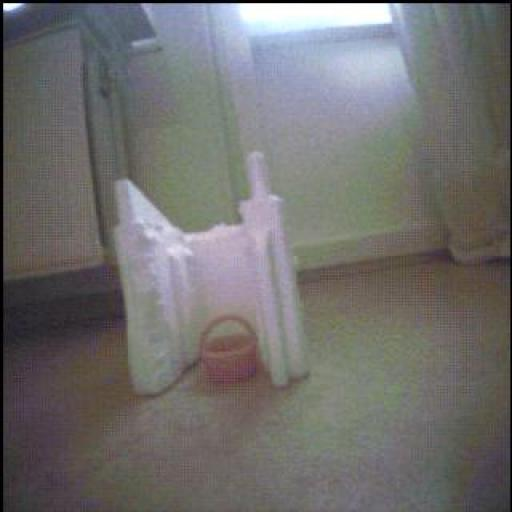Basket: (201, 316, 259, 385)
